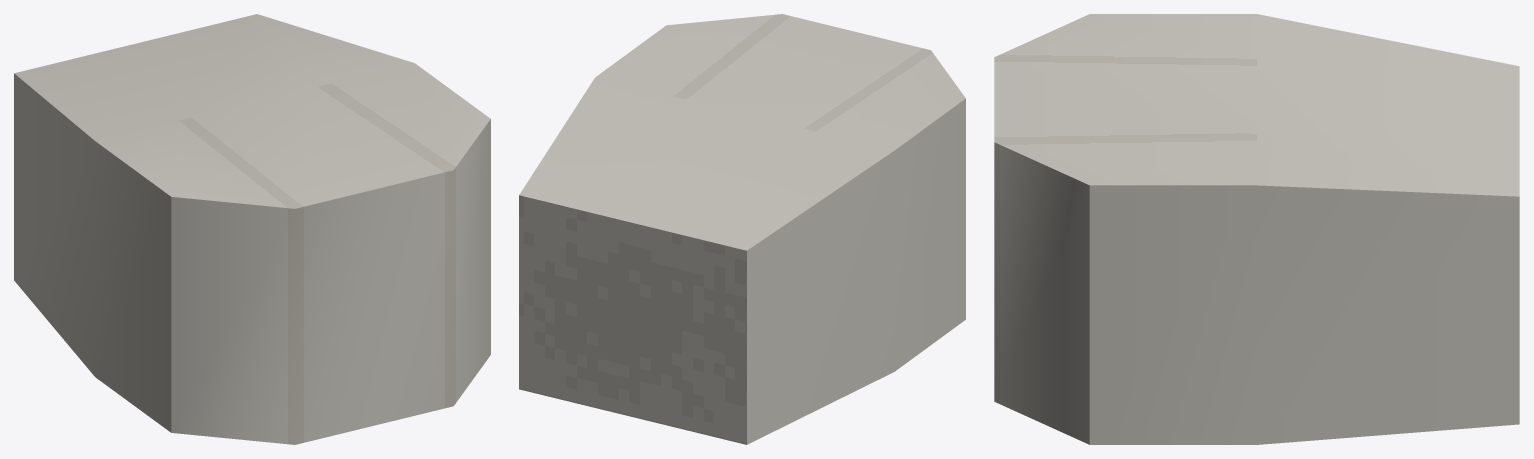
File: 01c3_Lion_Paw.glb
3 renders of one model, left to right at view 1: azimuth 30°, elevation 25°; view 2: azimuth 150°, elevation 25°; view 3: azimuth 270°, elevation 25°, orthographic. The views are drawn at different scales.
Visible parts, largest first — view 1: part_0; view 2: part_0; view 3: part_0.
Part boxes in pixels (x1=…): part_0: x1=14, y1=14, x2=490, y2=444; part_0: x1=519, y1=14, x2=965, y2=444; part_0: x1=994, y1=14, x2=1519, y2=444.
Size of the model in its own units: 1.12 by 0.791 by 1.45.
Materials: 1 (1 with a texture image).
